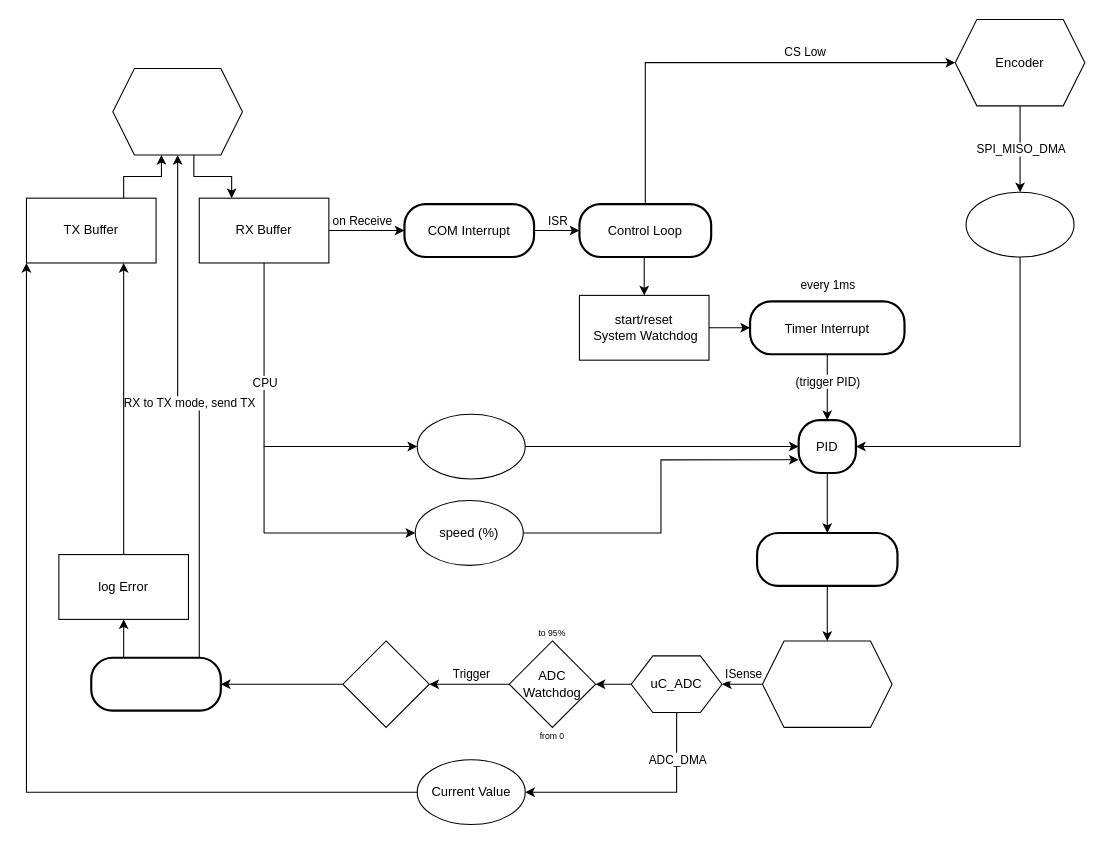
This 1104x843 diagram has some shape labels left out. The shapes that lost their labels are listed below. From the top down, each one's centre as x and y in pixels, then its label:
At point (177, 111): "CAN".
At point (1019, 224): "real_angle".
At point (470, 446): "target_angle".
At point (826, 558): "Motor Control".
At point (155, 683): "Stall Interrupt".
At point (385, 683): "for longer than 1s?".
At point (826, 683): "Driver".
